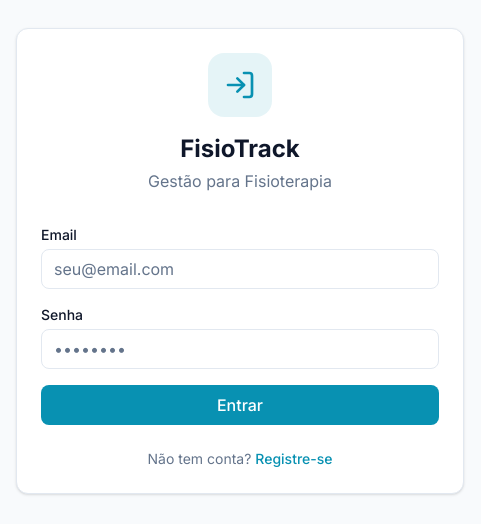
Test case: Login › should show validation error for short password
The image size is (481, 524).
Step 1. Type "123" into the password field labelled "Senha" → (240, 349), box [41, 329, 439, 369]
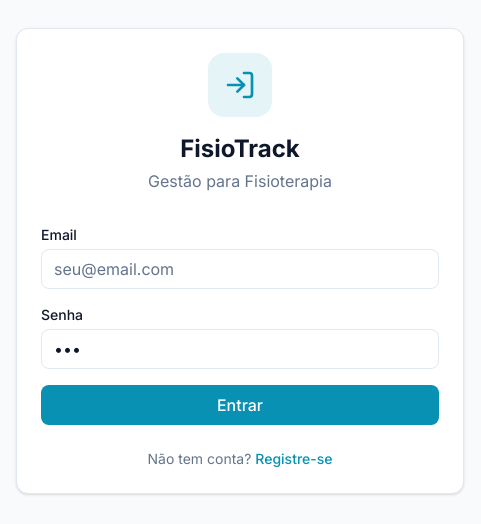
Step 2. Leave the password field labelled "Senha", box [41, 329, 439, 369]
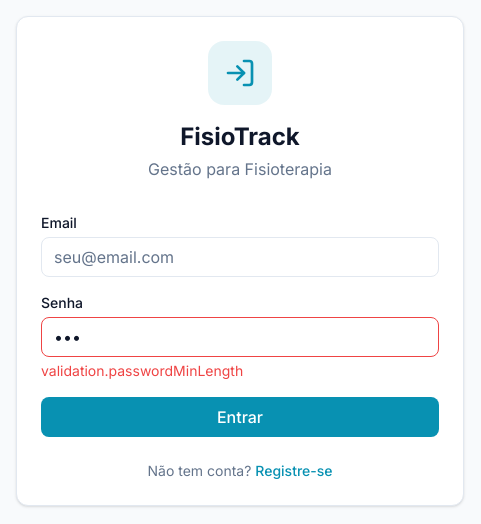
Result: the text "validation.passwordMinLength" is shown at [41, 362, 243, 379]
